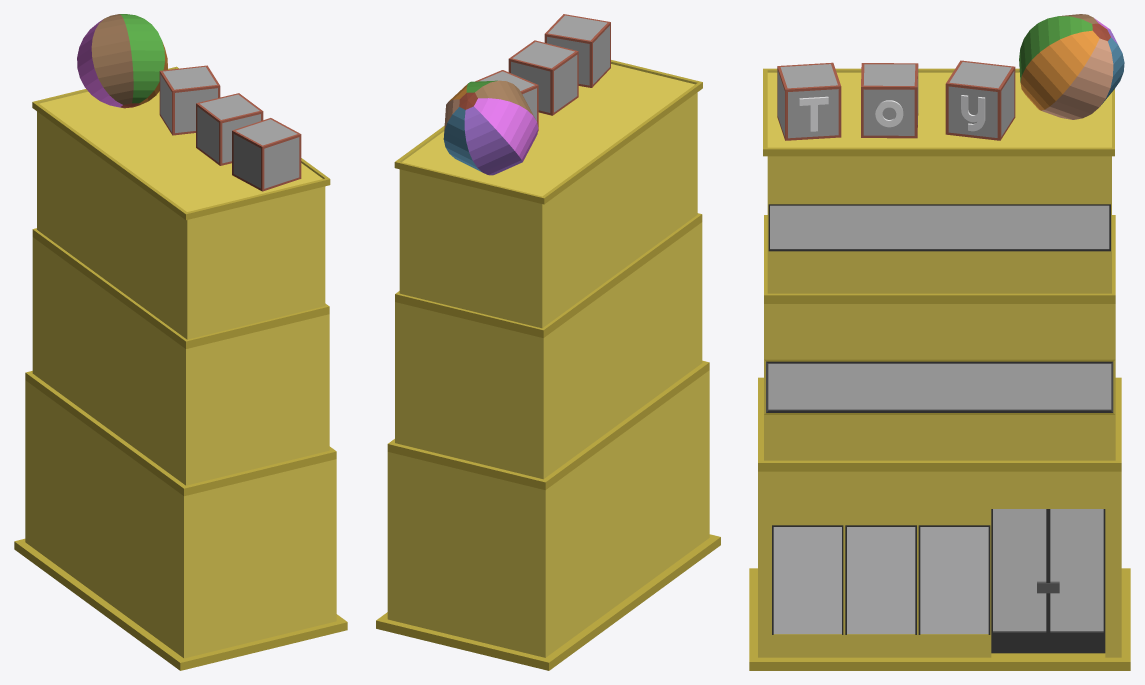
The model's file is toy-store-pp.glb.
The picture shows the model from 3 angles, left to right: view 1: azimuth 30°, elevation 25°; view 2: azimuth 150°, elevation 25°; view 3: azimuth 270°, elevation 25°; orthographic projection. The views are drawn at different scales.
Visible parts, largest first — view 1: toy store-pp; view 2: toy store-pp; view 3: toy store-pp.
Boxes of the visible parts, x1,y1,x2,y2 form: toy store-pp: [14, 14, 347, 670]; toy store-pp: [376, 14, 720, 670]; toy store-pp: [749, 14, 1130, 670].
Bounding box in the file's own units: 2.91 × 8.8 × 5.01.
Materials: 1 (1 with a texture image).
